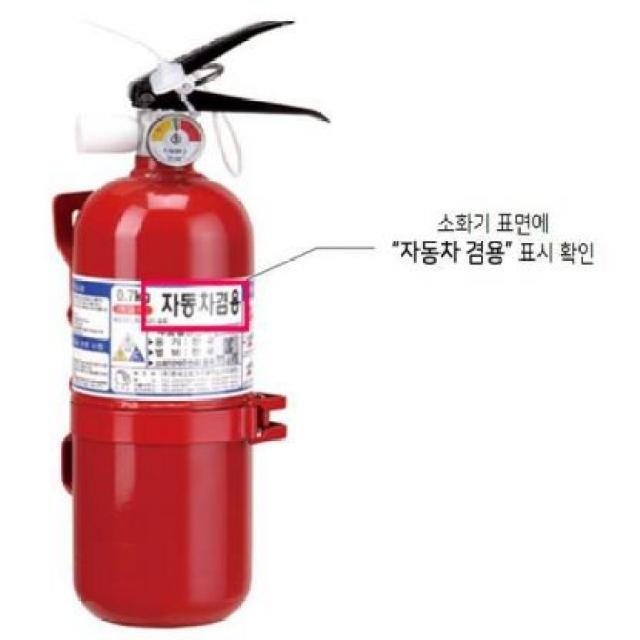fire extinguisher: (52, 19, 332, 630)
